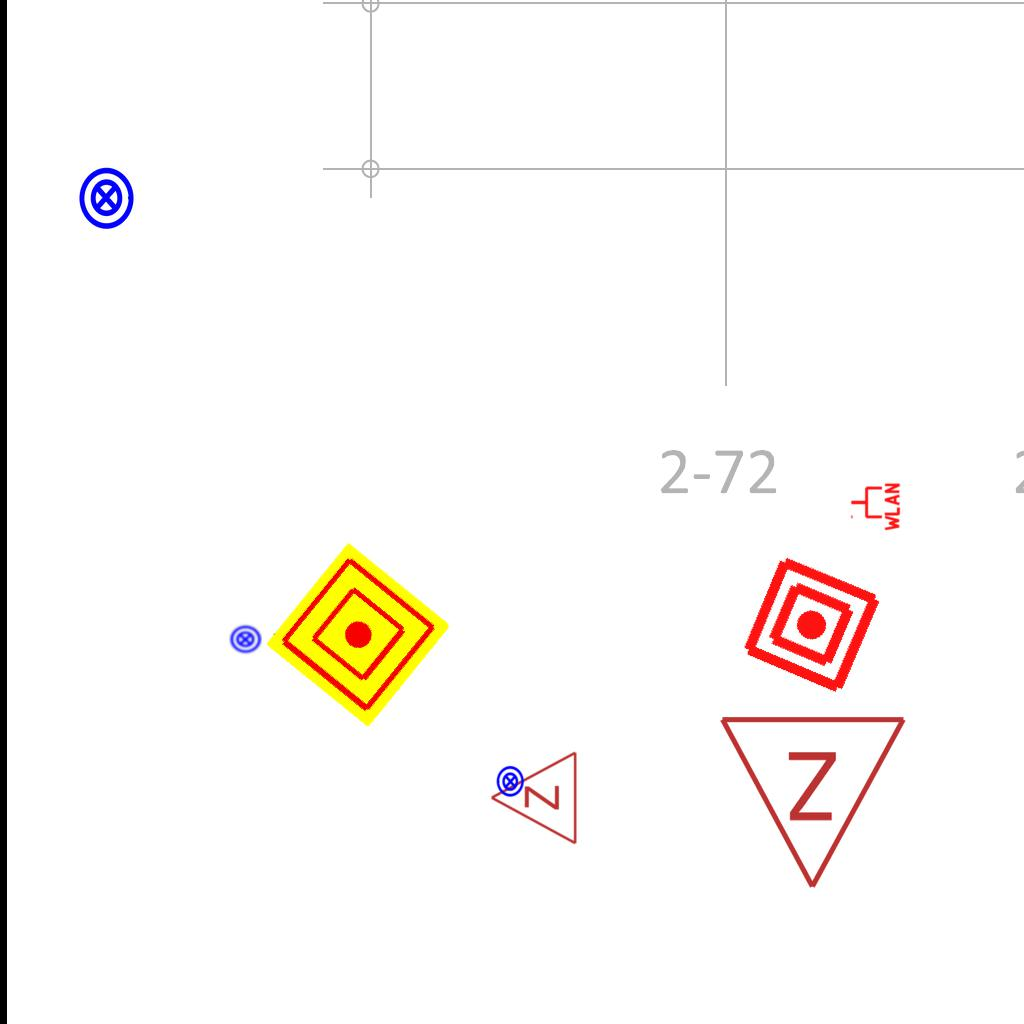NAM-Nichtautomatischer_Melder: (265, 542, 451, 728), (737, 550, 886, 699)
Taster_beleuchtet: (73, 165, 139, 231), (229, 623, 262, 656), (494, 765, 527, 798)
WLAN: (849, 481, 901, 533)
Zimmersignalleuchte: (717, 702, 913, 902), (484, 750, 584, 848)
